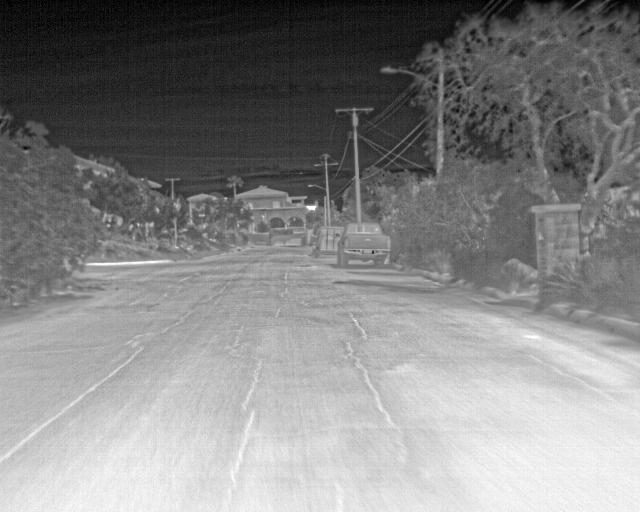car: (337, 221, 392, 267), (312, 224, 346, 257)
